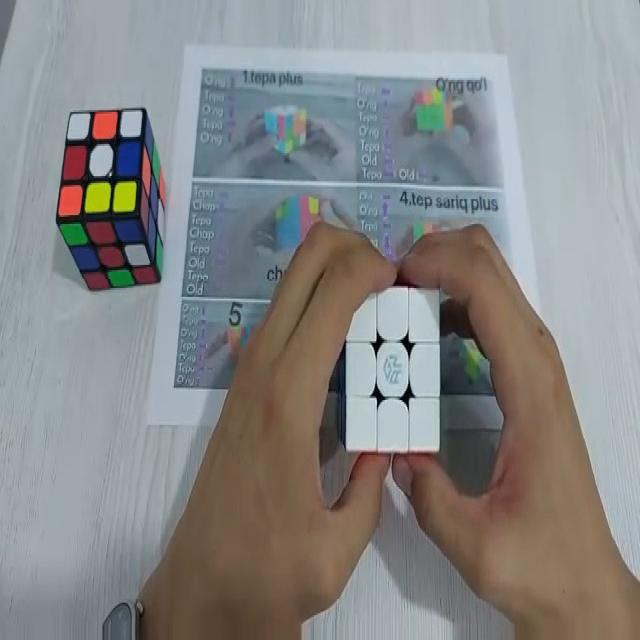Rub: (58, 108, 164, 299), (342, 283, 444, 462)
